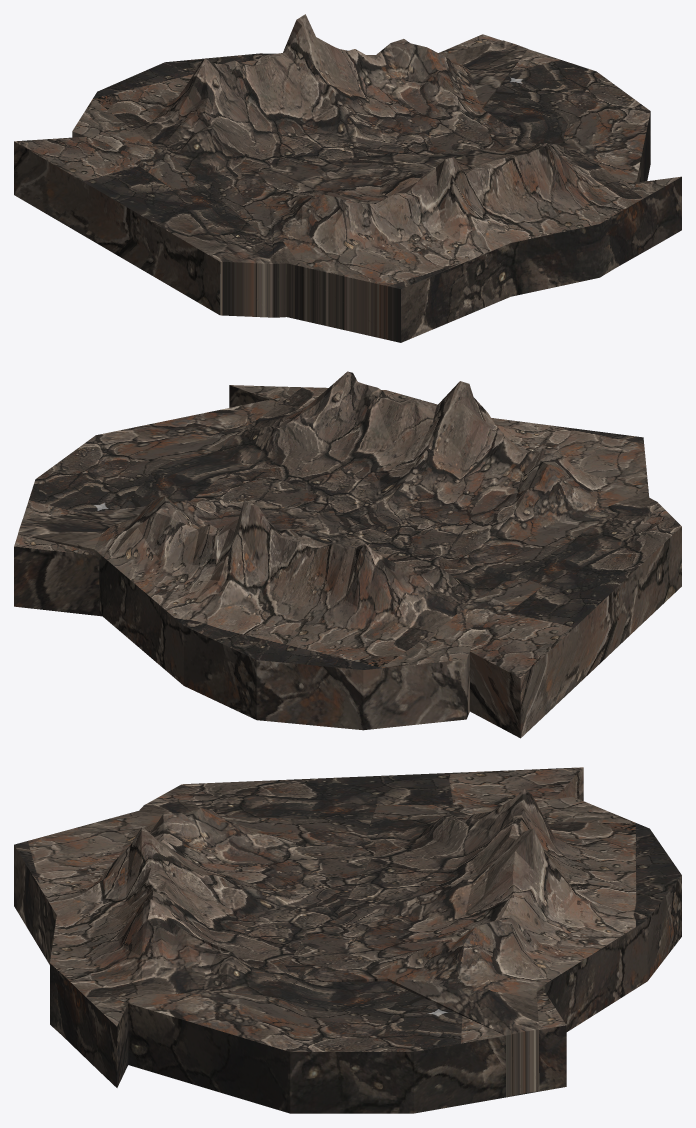
File: GroundForRepairProtocol.glb
The picture shows the model from 3 angles, top to bottom: view 1: azimuth 30°, elevation 25°; view 2: azimuth 150°, elevation 25°; view 3: azimuth 270°, elevation 25°; orthographic projection. The views are drawn at different scales.
Parts seen in each view (by area): view 1: Ground -col; view 2: Ground -col; view 3: Ground -col.
Boxes of the visible parts, <box> form: Ground -col: <box>14,14,681,342</box>; Ground -col: <box>14,371,681,738</box>; Ground -col: <box>14,767,681,1113</box>.
Size of the model in its own units: 10 by 2.47 by 9.92.
Materials: 1 (1 with a texture image).
